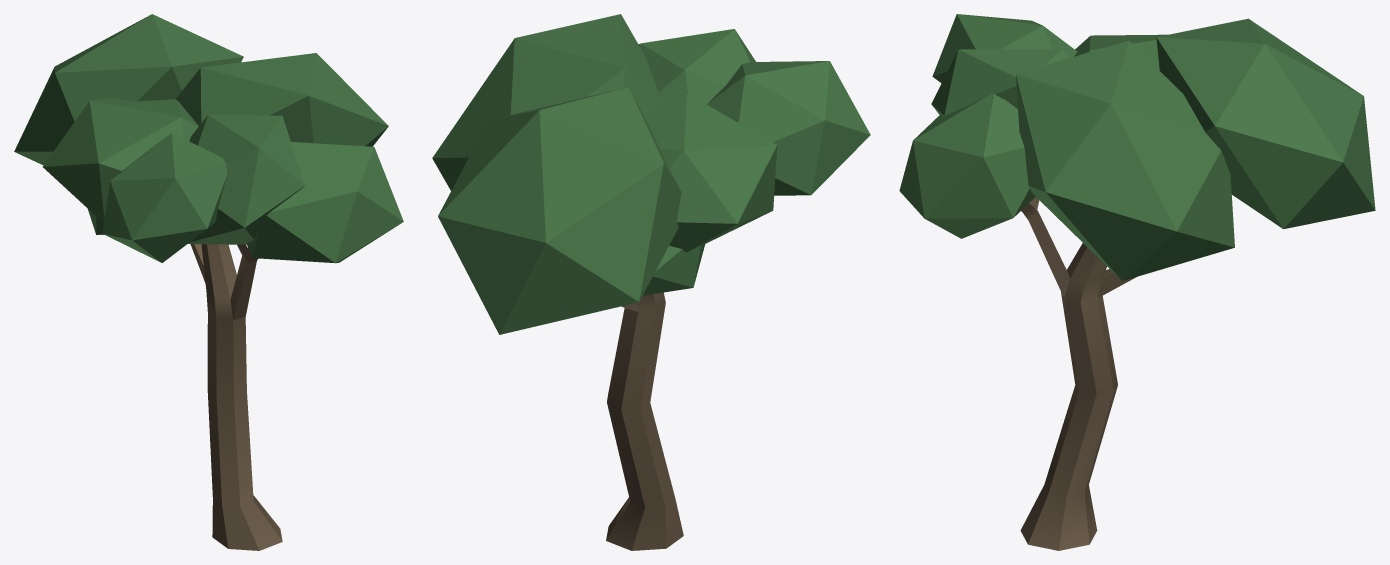
Rendered from model_tree2.fbx.
3 renders of one model, left to right at view 1: azimuth 30°, elevation 25°; view 2: azimuth 150°, elevation 25°; view 3: azimuth 270°, elevation 25°, orthographic. The views are drawn at different scales.
Visible parts, largest first — view 1: pPlatonic8; view 2: pPlatonic8; view 3: pPlatonic8.
Part boxes in pixels (left/top/right/bottom): pPlatonic8: left=14, top=14, right=403, bottom=550; pPlatonic8: left=432, top=14, right=870, bottom=550; pPlatonic8: left=899, top=14, right=1375, bottom=550.
Size of the model in its own units: 16.21 by 23.63 by 20.82.
